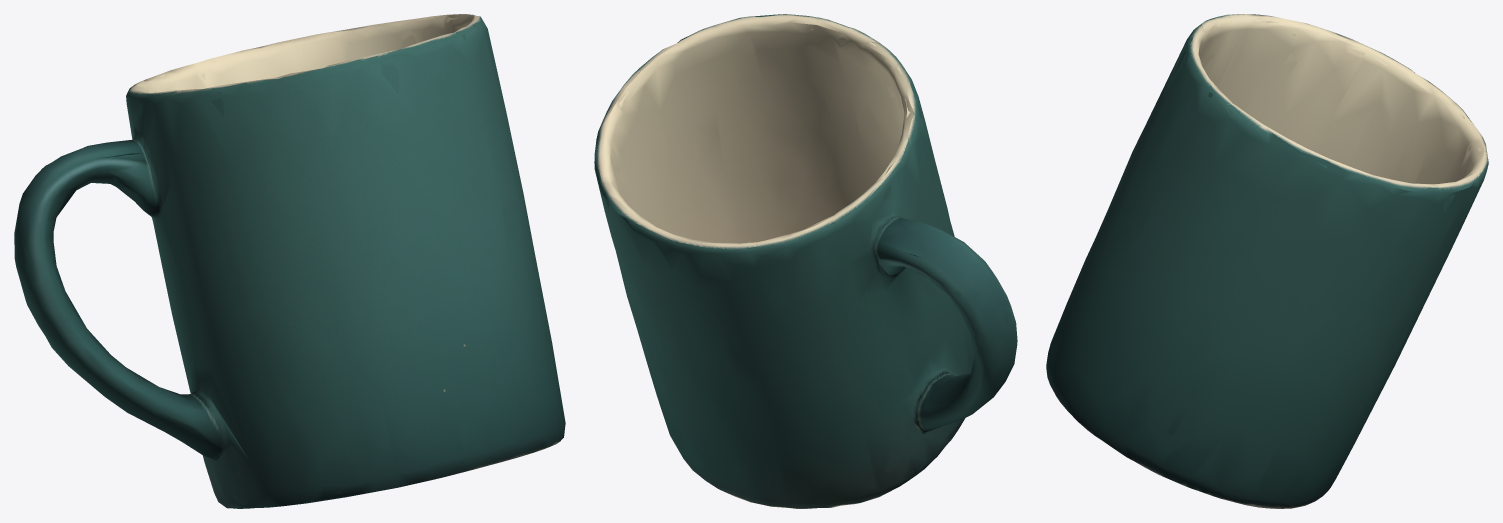
File: ceramic_coffee_mug_with_a.glb
3 views of the same model, side by side, from view 1: azimuth 30°, elevation 25°; view 2: azimuth 150°, elevation 25°; view 3: azimuth 270°, elevation 25° (orthographic). The views are drawn at different scales.
Parts seen in each view (by area): view 1: ceramic_coffee_mug_with_a; view 2: ceramic_coffee_mug_with_a; view 3: ceramic_coffee_mug_with_a.
Part boxes in pixels (x1,y1,x2,y2): ceramic_coffee_mug_with_a: [14, 14, 565, 508]; ceramic_coffee_mug_with_a: [594, 14, 1017, 508]; ceramic_coffee_mug_with_a: [1046, 14, 1488, 508].
Bounding box in the file's own units: 0.0963 × 0.1 × 0.0932.
1 material, 1 textured.
